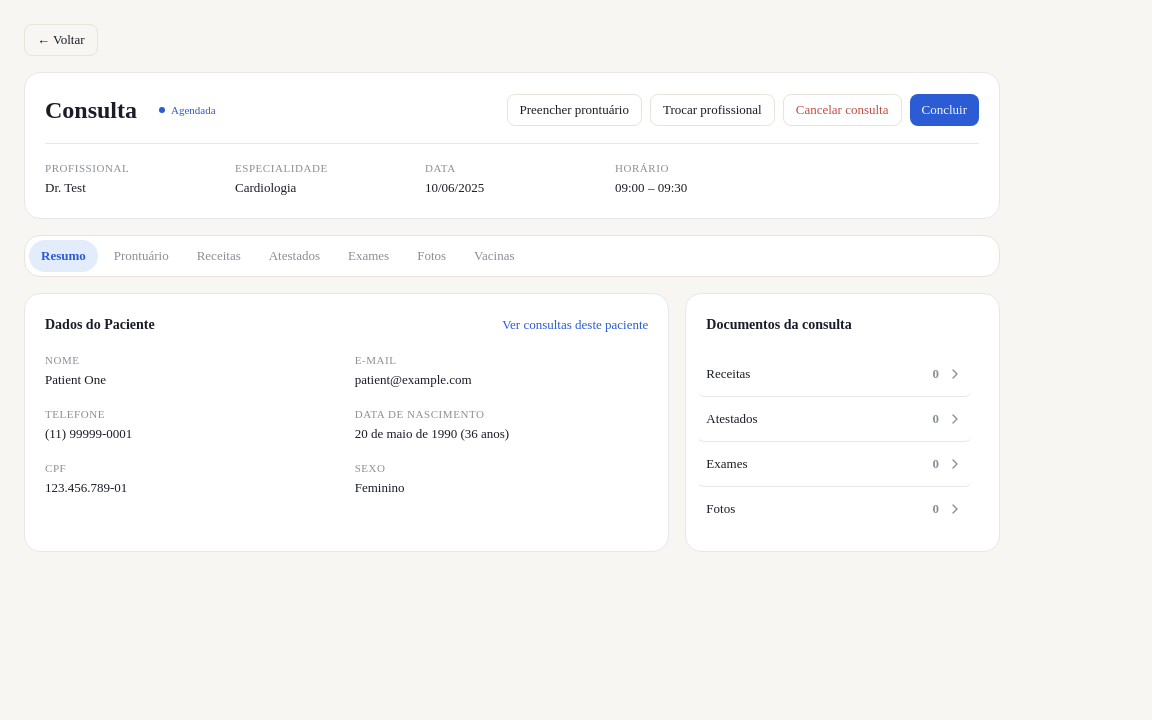
Test: AppointmentDetailPage (integration) › clicking complete button opens the complete confirmation dialog
This screenshot has width=1152, height=720.
Click the button with test id "appointment-detail-complete-button": (944,110) [910,94,979,126]
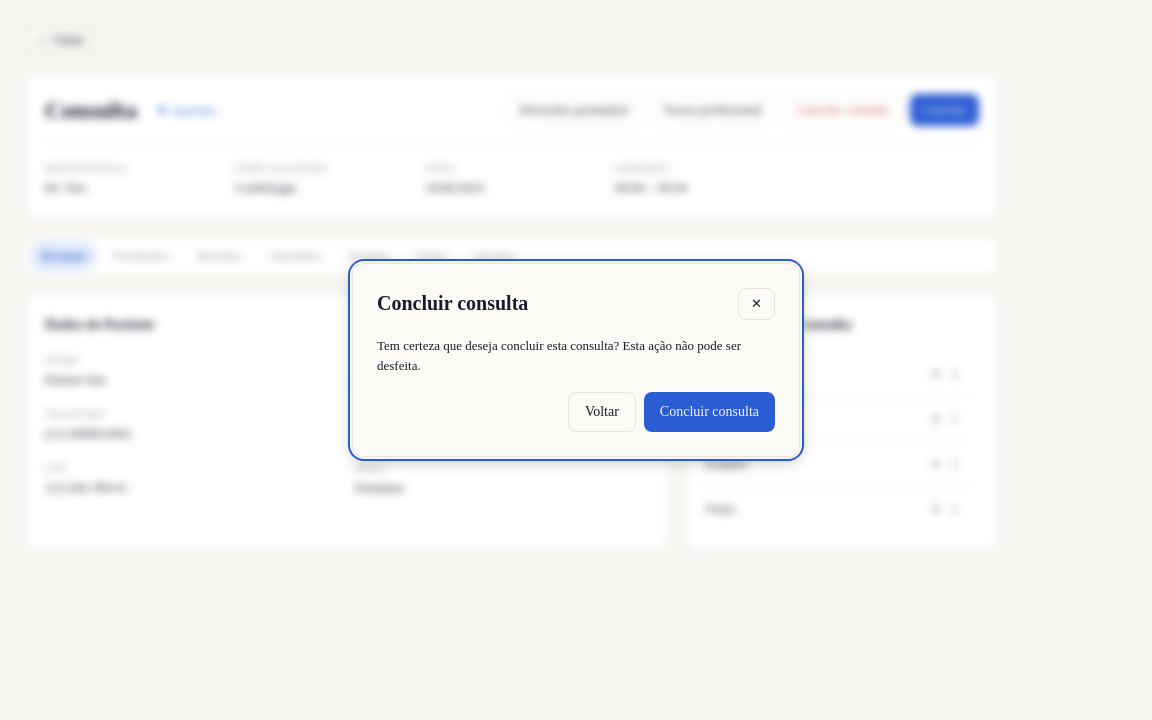
Expected: the dialog with test id "complete-appointment-dialog" is shown, [352,263,800,457]
